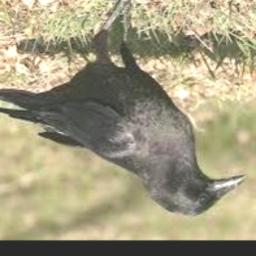Crow: (0, 0, 246, 218)
